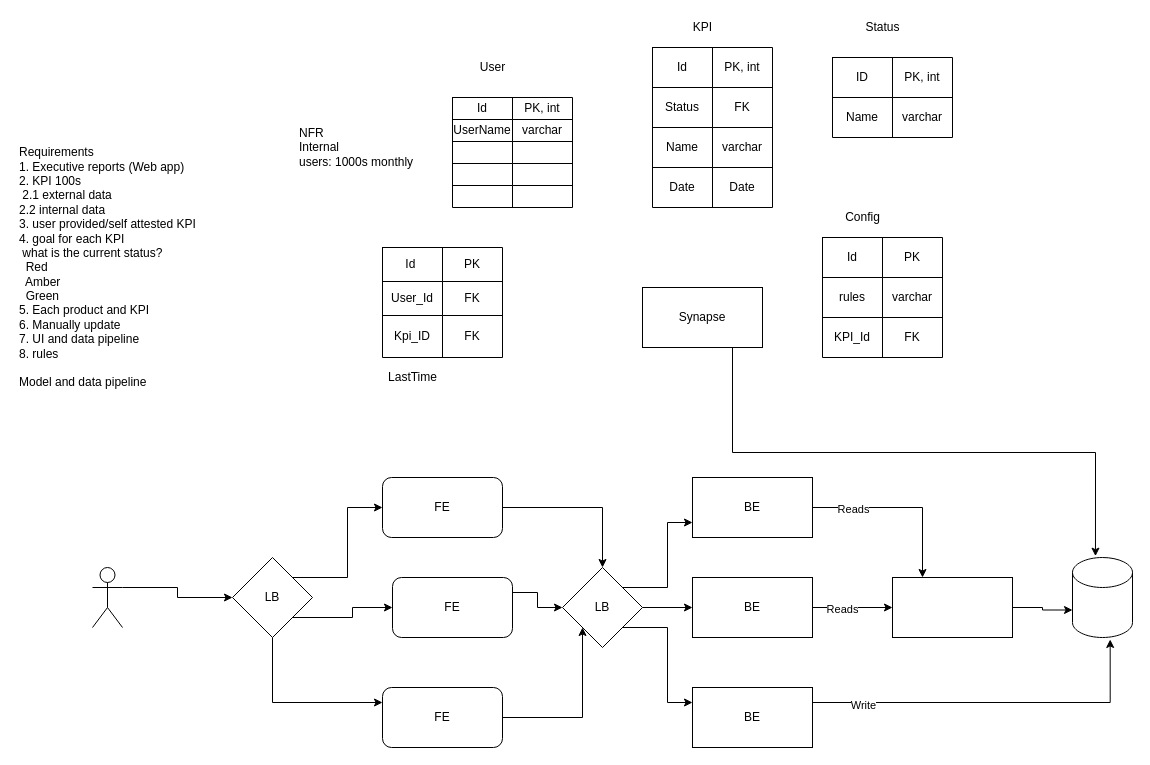
The diagram is 1150 pixels wide and 765 high, and some of its shapes have lost their labels. Here are the shapes that lost their labels. From the top down, the centre of each, then its label:
At pixel 107 597: "Actor".
At pixel 952 607: "Redis Cache".
At pixel 1102 597: "SQL".
